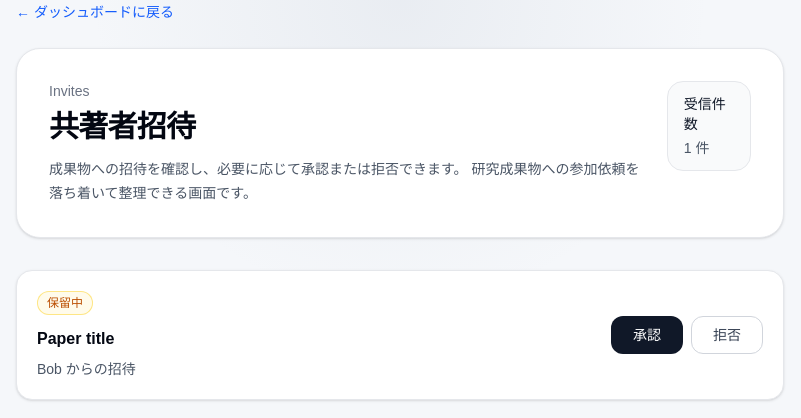
Test: InvitesPage › declines a pending invite and updates the status
Expected: the link "Paper title" is shown, [37,330,114,347]
What coordinates should you click on to do the following:
click the button "拒否"
I would click on:
 (727, 335)
Its box is [691,316,763,354].
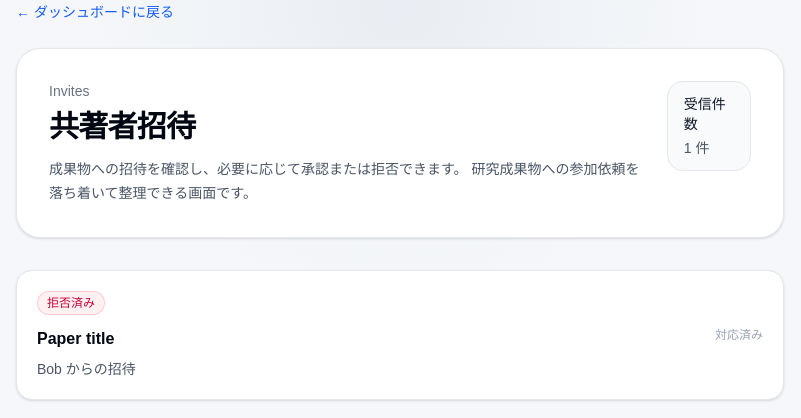
Now the text "拒否済み" is shown, box [37,291,105,315]
